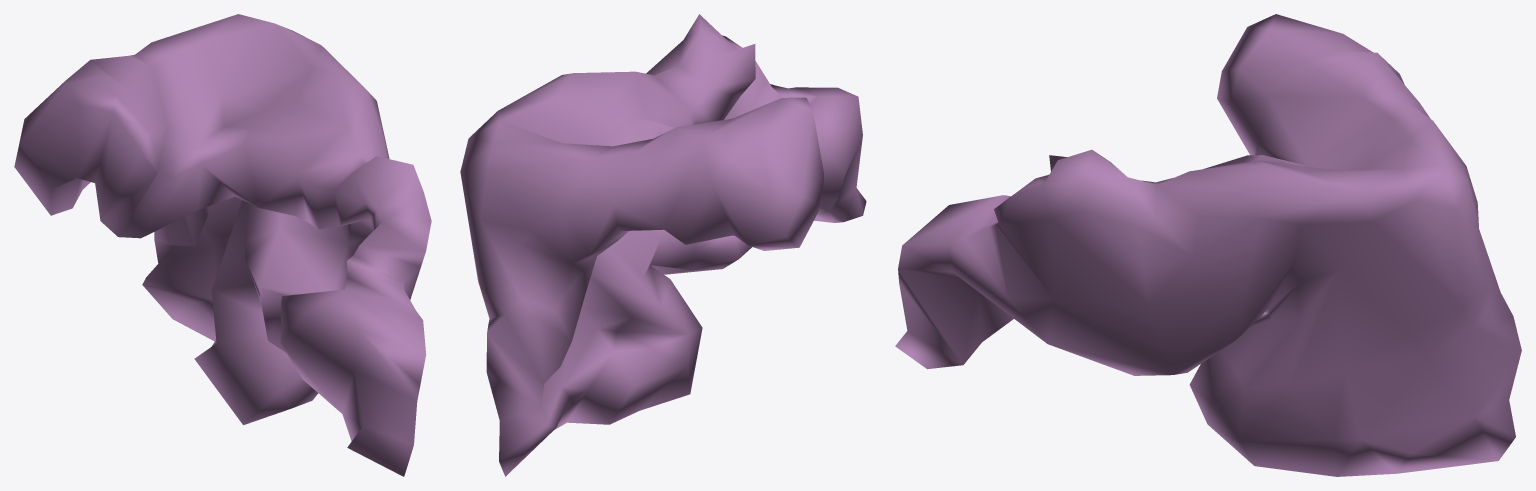
3 views of the same model, side by side, from view 1: azimuth 30°, elevation 25°; view 2: azimuth 150°, elevation 25°; view 3: azimuth 270°, elevation 25° (orthographic). The views are drawn at different scales.
Parts seen in each view (by area): view 1: 左侧额下回三角部; view 2: 左侧额下回三角部; view 3: 左侧额下回三角部.
Part boxes in pixels (left/top/right/bottom): 左侧额下回三角部: left=14, top=14, right=431, bottom=476; 左侧额下回三角部: left=460, top=14, right=866, bottom=476; 左侧额下回三角部: left=895, top=14, right=1521, bottom=476.
Bounding box in the file's own units: 0.0302 × 0.0331 × 0.0521.
